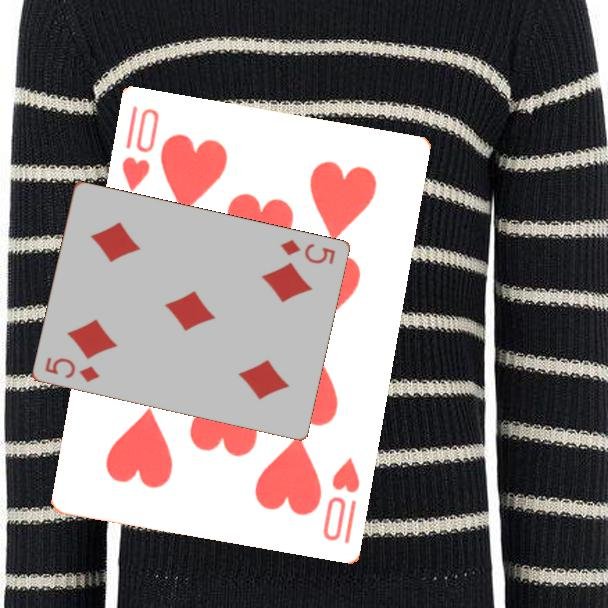d05: (276, 236, 338, 268), (41, 354, 102, 385)
h10: (118, 103, 163, 195), (319, 455, 363, 547)
